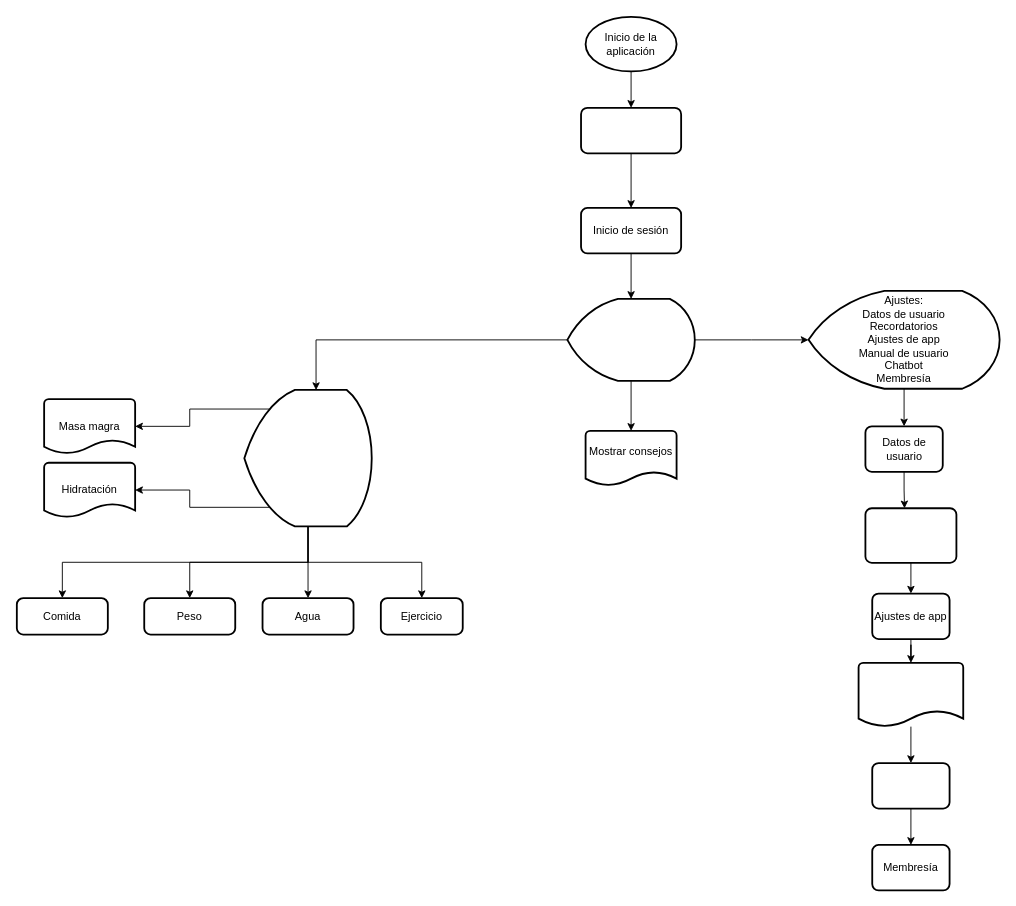
This 1016x906 diagram has some shape labels left out. Here are the shapes that lost their labels. From the top down, the centre of each, then its label:
the point at 631,130: Sincronización con la nube
the point at 630,339: Menú: Inicio Consejos Ajustes
the point at 307,458: Inicio: Masa Magra Hidratación Comida Peso Agua Ejercicios
the point at 910,535: Establecer recordatorios
the point at 910,694: Manual de usuario
the point at 910,785: Chatbot
